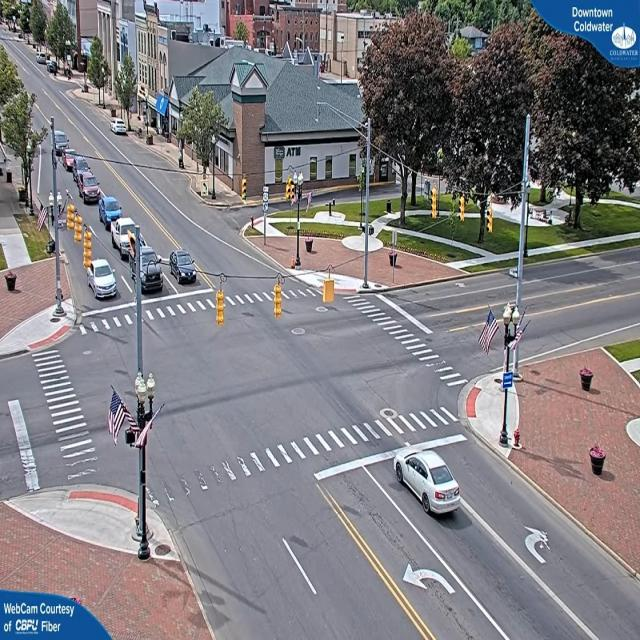car: (396, 451, 461, 518), (87, 258, 120, 300), (110, 215, 141, 256), (138, 246, 164, 292), (75, 162, 101, 207), (168, 250, 198, 285), (52, 129, 69, 157), (111, 119, 129, 136)
